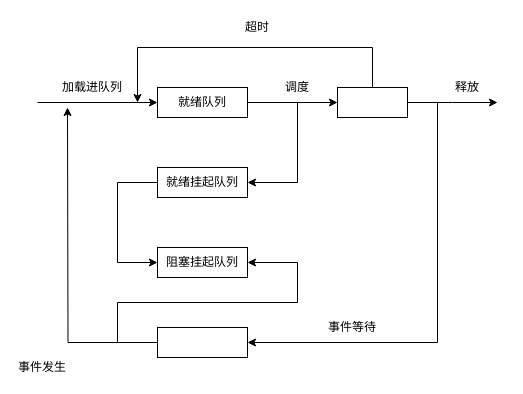
Image size: 523x394. Some labels were removed from this diagram. The shapes that lost their labels are listed below. From the top down, each one's centre as x and y in pixels, then its label:
the point at 372,102: 处理器
the point at 202,342: 阻塞队列
